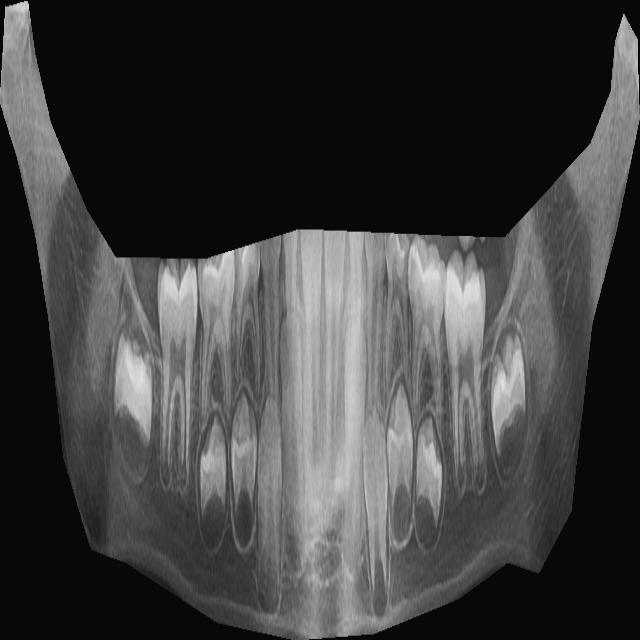mandibula: (0, 0, 640, 640)
